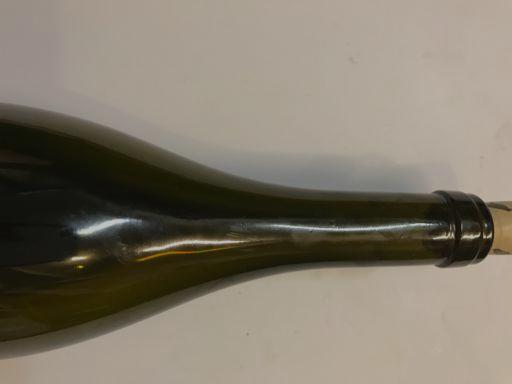glass: (0, 86, 508, 363)
